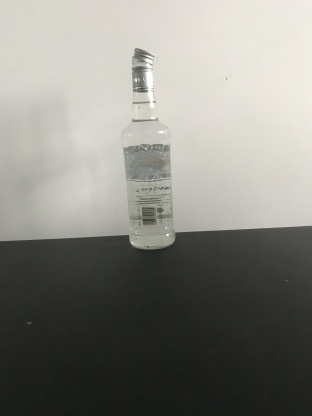nakretka: (130, 45, 156, 92)
